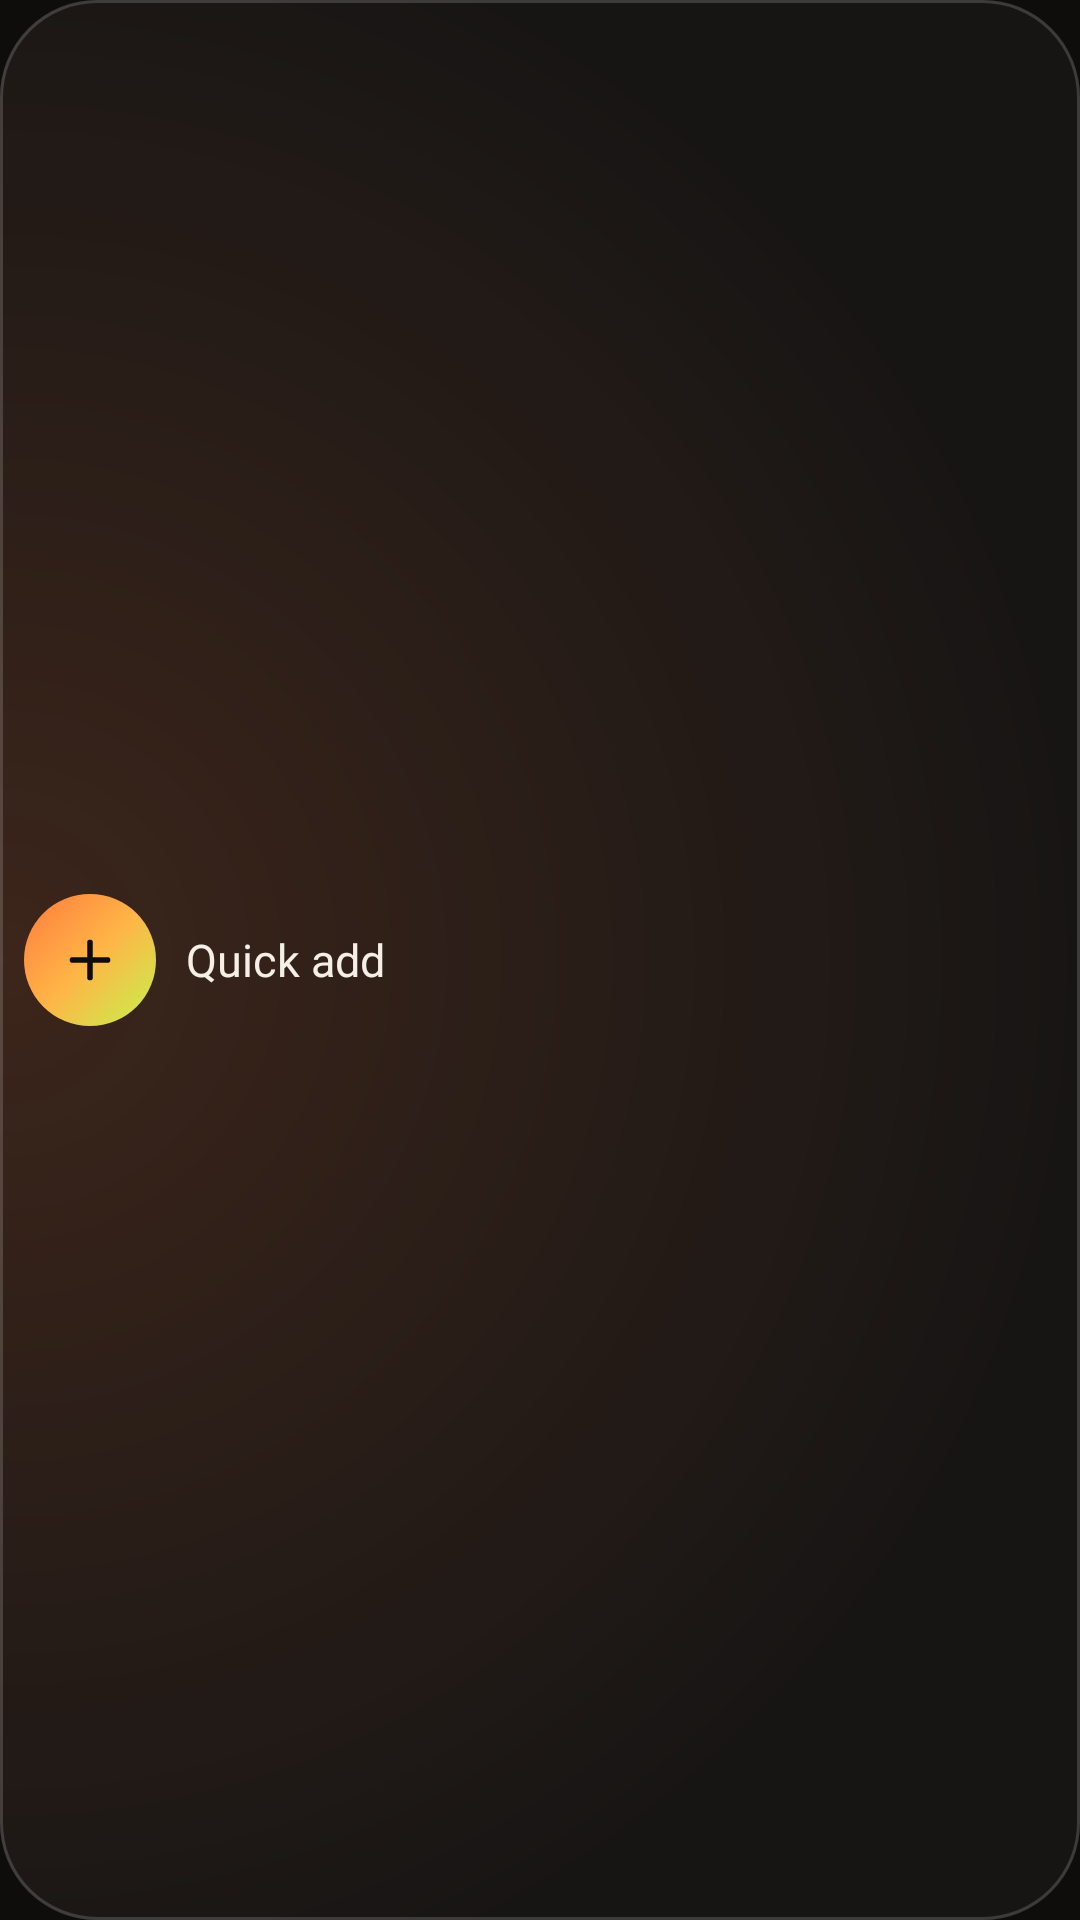

Screen size 1080x1920. Icon name, then its center in pixels as (x,y):
widget add: (94,964)
